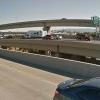Bridge: (2, 17, 98, 74)
